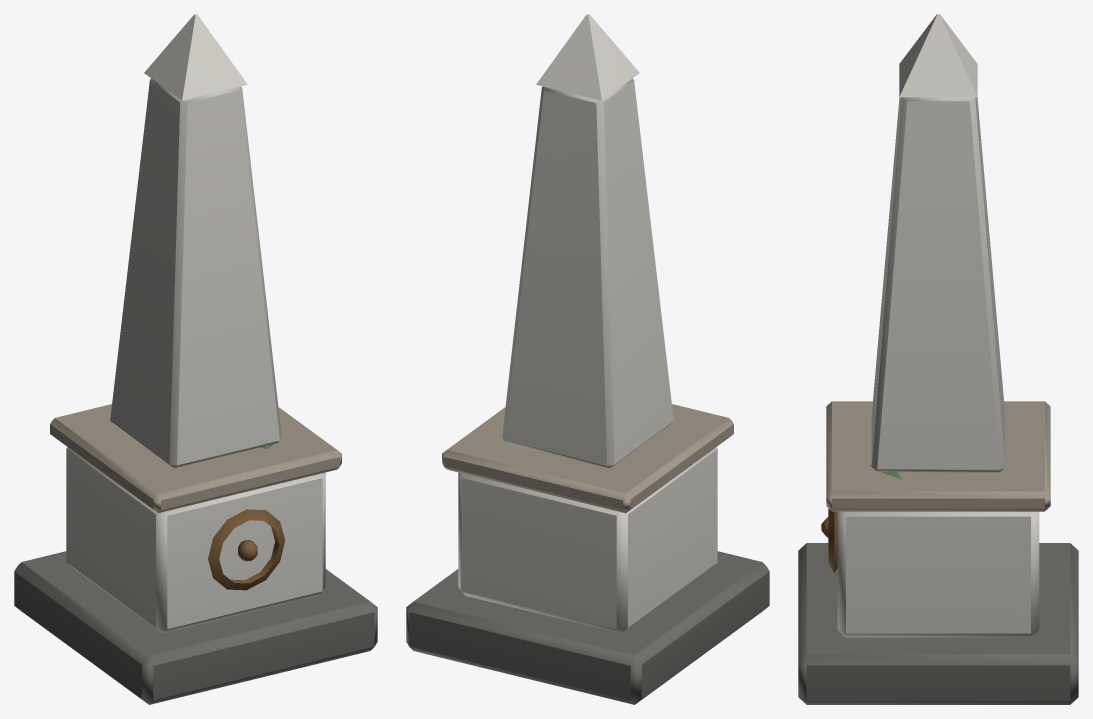
File: obelisk_mini.glb
The picture shows the model from 3 angles, left to right: view 1: azimuth 30°, elevation 25°; view 2: azimuth 150°, elevation 25°; view 3: azimuth 270°, elevation 25°; orthographic projection. The views are drawn at different scales.
Parts seen in each view (by area): view 1: obelisk_mini; view 2: obelisk_mini; view 3: obelisk_mini.
Boxes of the visible parts, left/top/right/bottom form: obelisk_mini: left=14, top=14, right=377, bottom=704; obelisk_mini: left=406, top=14, right=769, bottom=704; obelisk_mini: left=798, top=14, right=1078, bottom=704.
Size of the model in its own units: 0.5 by 1.25 by 0.5.
